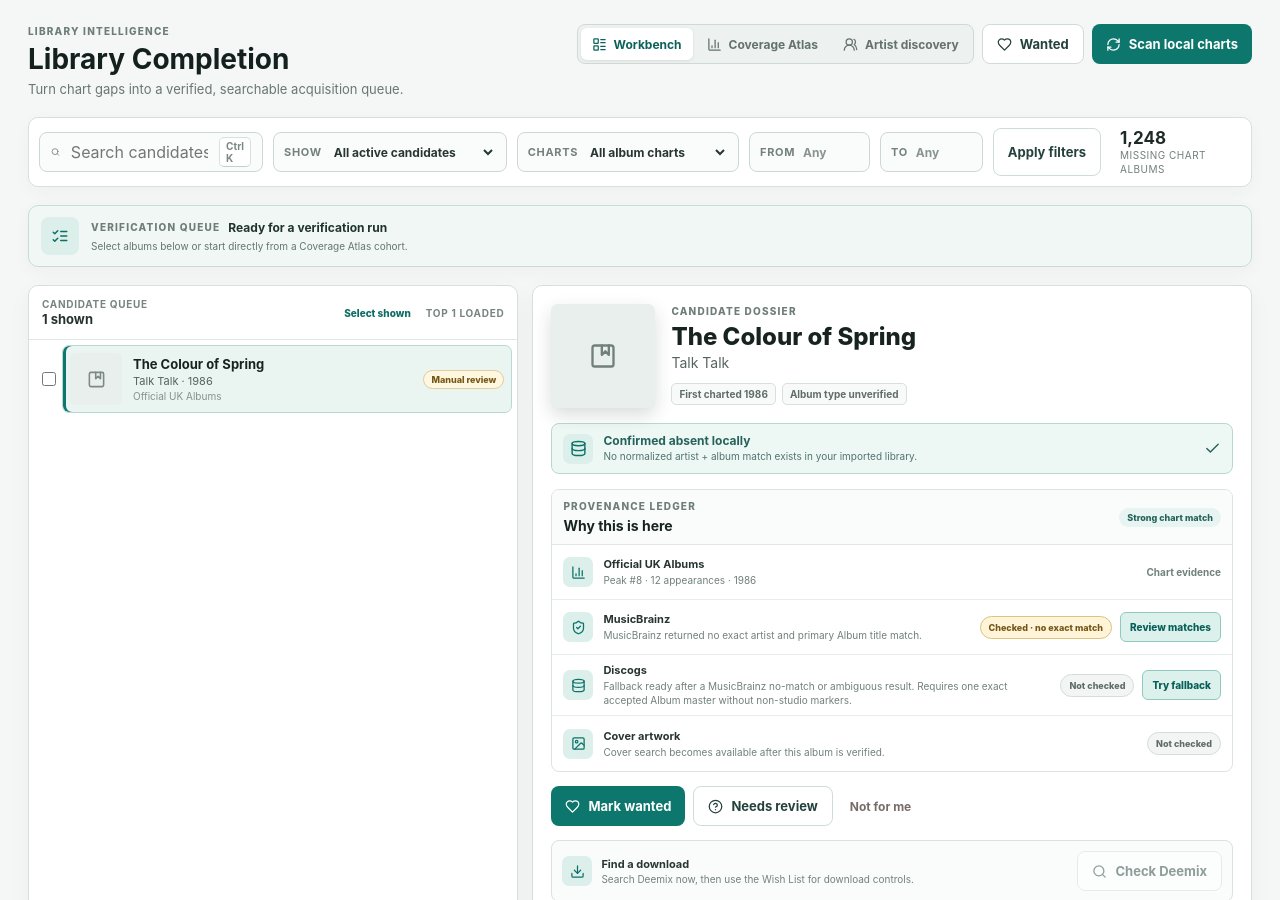
Test: LibraryCompletionWorkspace › keeps a manual review path when a queued check finds no studio album
Expected: the heading "The Colour of Spring" is shown, [671,322,916,351]
Expected: the text "Checked · no exact match" is shown, [980,616,1112,638]
What coordinates should you click on to do the following:
click the button "Review matches"
I would click on:
 (1170, 627)
Its box is [1120,612,1221,642].
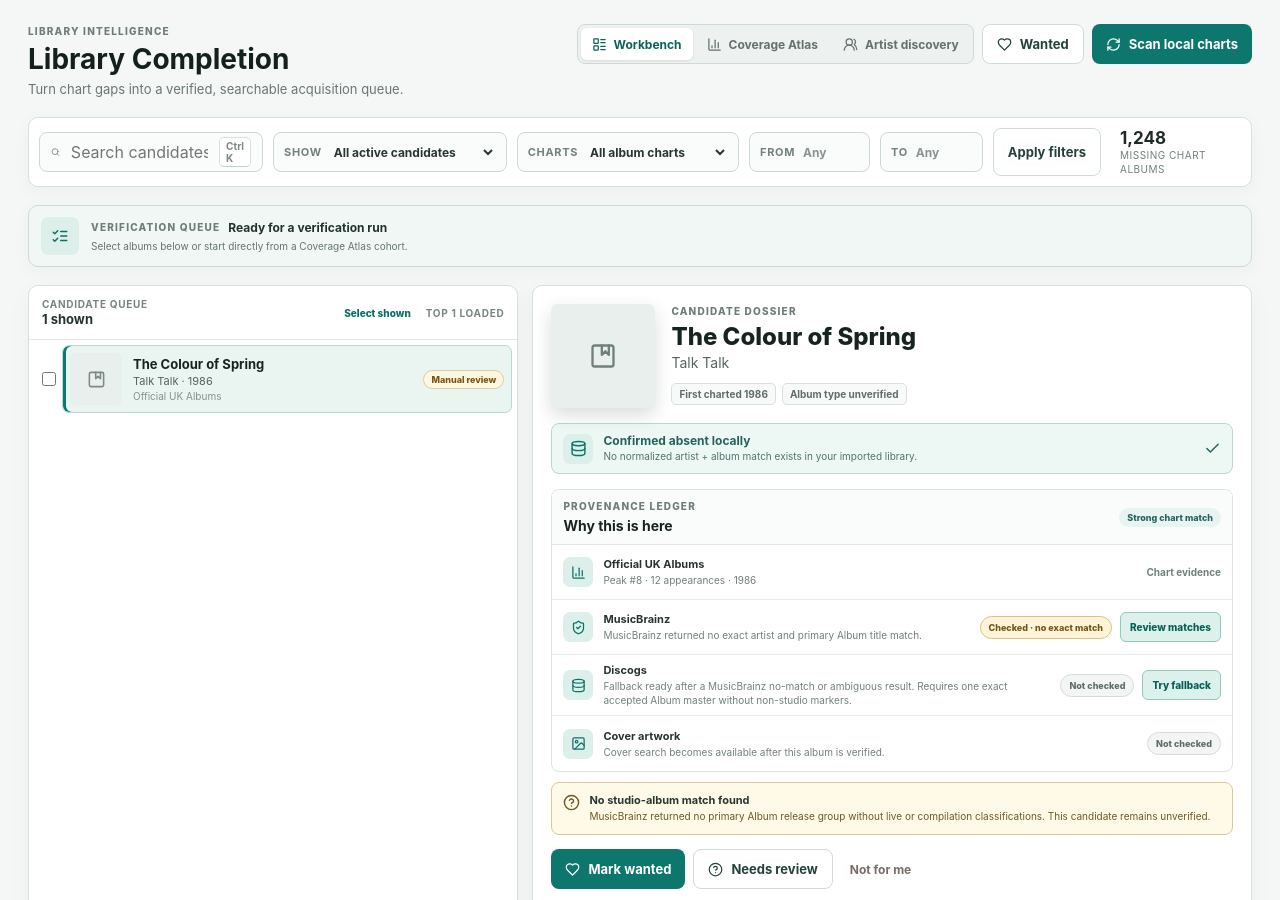
Expected: the text "No studio-album match found" is shown, [589,793,750,807]
Expected: the text "candidate remains unverified" is shown, [589,810,1210,822]
